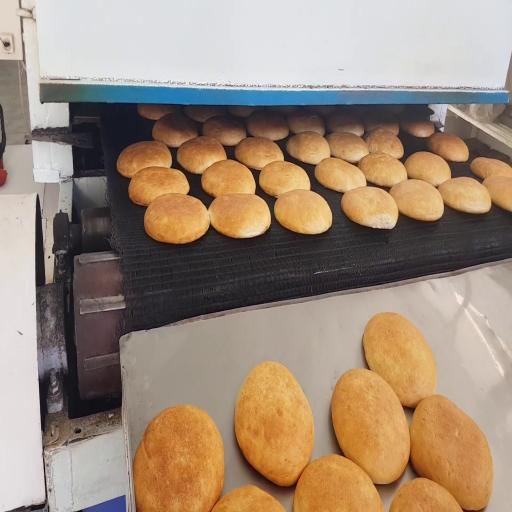bread: (235, 362, 314, 486), (133, 405, 224, 511), (410, 395, 493, 510), (332, 369, 410, 484), (363, 313, 436, 407), (293, 454, 384, 511), (144, 194, 209, 244), (208, 194, 270, 238), (274, 190, 332, 234), (390, 478, 462, 511), (128, 167, 189, 205), (342, 187, 398, 228), (390, 180, 443, 220), (117, 141, 171, 178), (202, 160, 255, 197), (438, 177, 491, 213), (212, 485, 285, 511), (259, 162, 310, 197), (315, 157, 366, 192), (177, 137, 226, 173), (358, 153, 407, 187), (404, 152, 451, 186), (235, 138, 284, 170), (152, 113, 198, 147), (286, 132, 330, 164), (326, 132, 369, 164), (203, 116, 246, 146), (427, 132, 469, 162), (247, 110, 289, 140), (364, 128, 403, 158), (483, 176, 511, 211), (287, 111, 325, 136), (471, 157, 511, 179), (363, 111, 399, 135), (327, 113, 364, 136), (400, 116, 434, 137), (138, 104, 180, 120), (184, 106, 225, 122), (228, 106, 260, 117), (304, 105, 336, 116), (267, 106, 298, 115), (380, 104, 405, 115)
